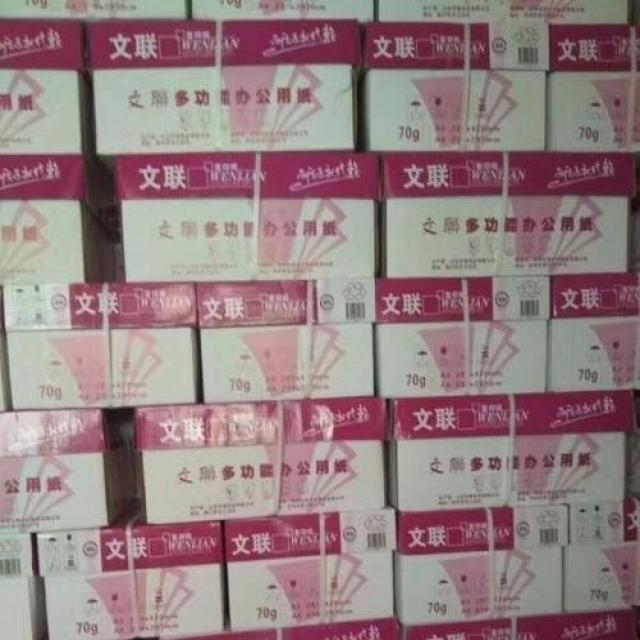box: (81, 20, 358, 178), (117, 153, 380, 280), (380, 151, 638, 278), (134, 397, 388, 522), (386, 391, 639, 511), (33, 498, 227, 638), (364, 24, 552, 151), (219, 509, 398, 636), (400, 501, 569, 629), (194, 280, 375, 399), (380, 276, 552, 398), (0, 409, 141, 537), (0, 153, 118, 285), (0, 18, 99, 156), (547, 24, 639, 151), (549, 270, 639, 396), (565, 498, 639, 617), (374, 2, 628, 24), (0, 534, 47, 637), (400, 616, 561, 639), (0, 1, 191, 20), (189, 2, 375, 19), (561, 608, 639, 637)
